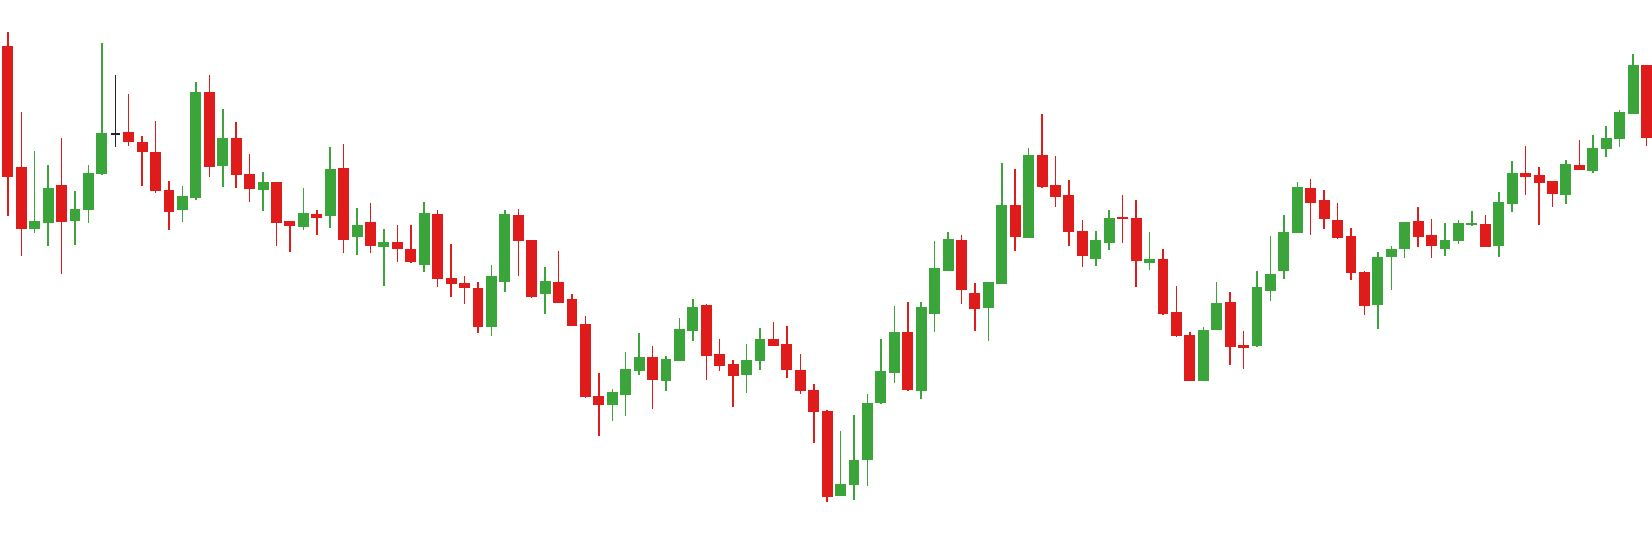buy: (596, 364, 876, 504)
sell: (447, 209, 539, 284)
